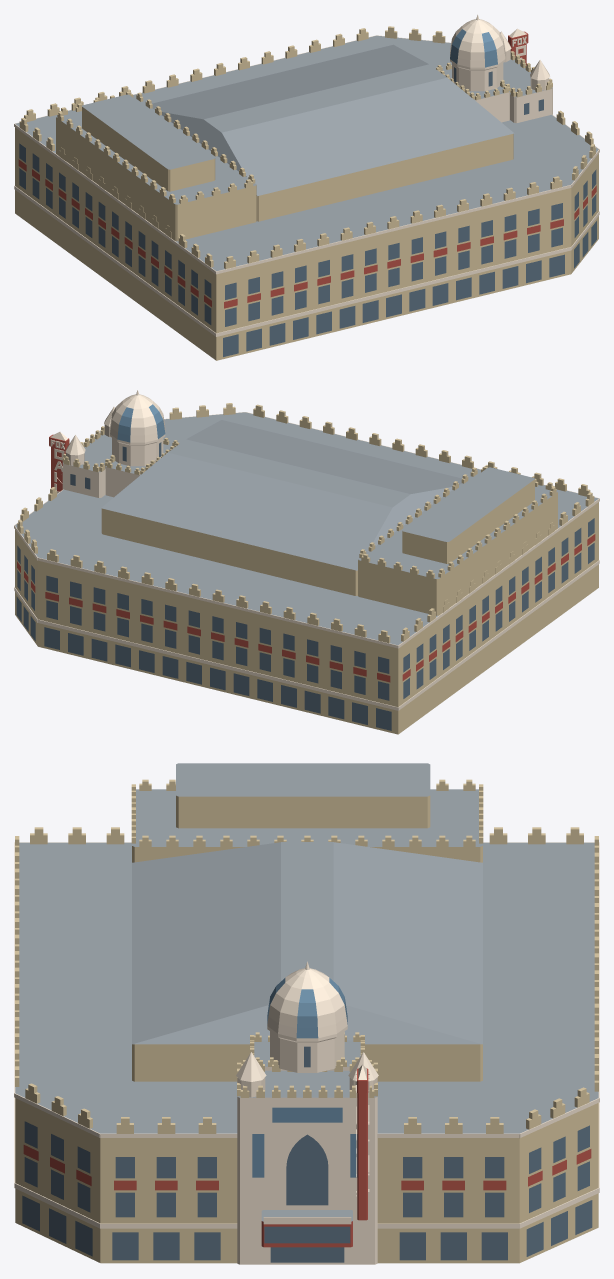
Rendered from sf-fox-oakland.glb.
3 views of the same model, one above another, from view 1: azimuth 30°, elevation 25°; view 2: azimuth 150°, elevation 25°; view 3: azimuth 270°, elevation 25° (orthographic). The views are drawn at different scales.
Parts seen in each view (by area): view 1: Fox Oakland Theatre; view 2: Fox Oakland Theatre; view 3: Fox Oakland Theatre.
Part boxes in pixels (x1,y1,x2,y2): Fox Oakland Theatre: [14, 14, 599, 360]; Fox Oakland Theatre: [14, 390, 599, 734]; Fox Oakland Theatre: [14, 763, 599, 1264].
Bounding box in the file's own units: 82.28 × 33.6 × 66.81.
